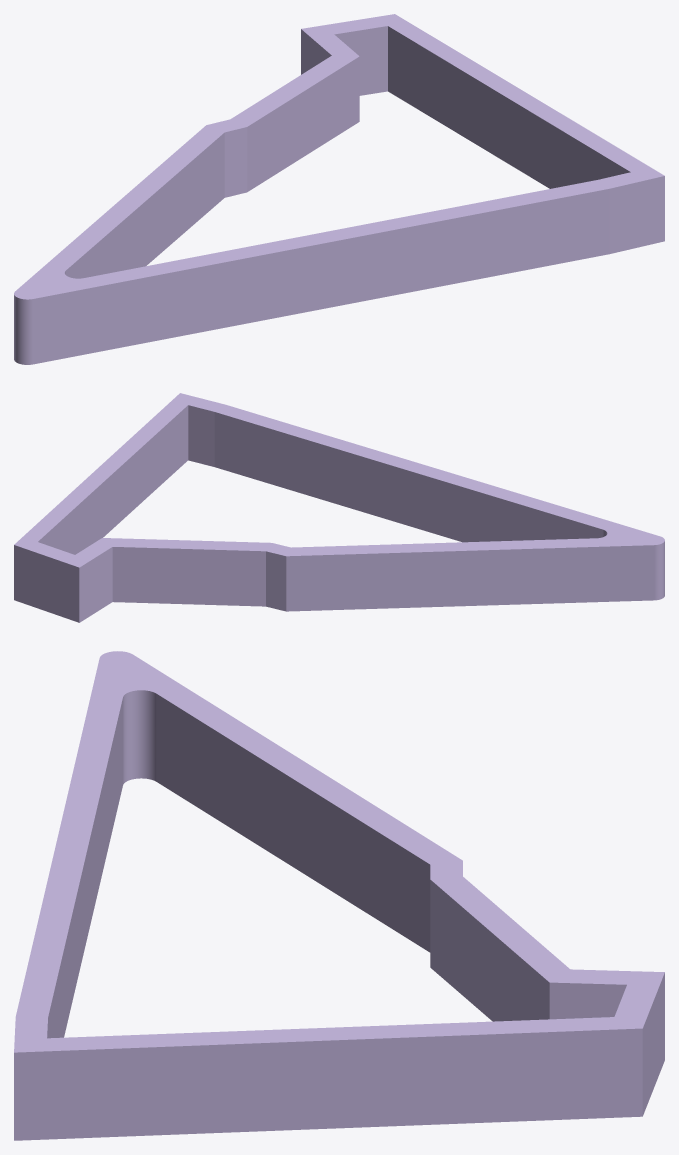
The model's file is lidar-test-1.dae.
3 views of the same model, one above another, from view 1: azimuth 30°, elevation 25°; view 2: azimuth 150°, elevation 25°; view 3: azimuth 270°, elevation 25° (orthographic). The views are drawn at different scales.
Visible parts, largest first — view 1: ID2; view 2: ID2; view 3: ID2.
Part boxes in pixels (x1,y1,x2,y2): ID2: (14,14,664,364); ID2: (14,393,664,622); ID2: (14,651,664,1140).
Bounding box in the file's own units: 2.93 × 2.01 × 0.3.
